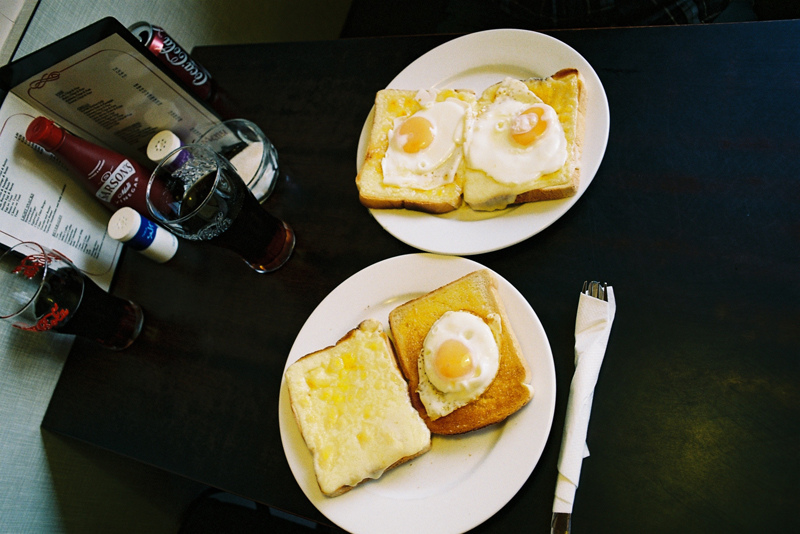fried egg: (472, 94, 556, 181), (419, 318, 499, 403), (384, 108, 470, 185)
slice of bread: (384, 275, 533, 440), (470, 70, 588, 206), (354, 85, 477, 211)
